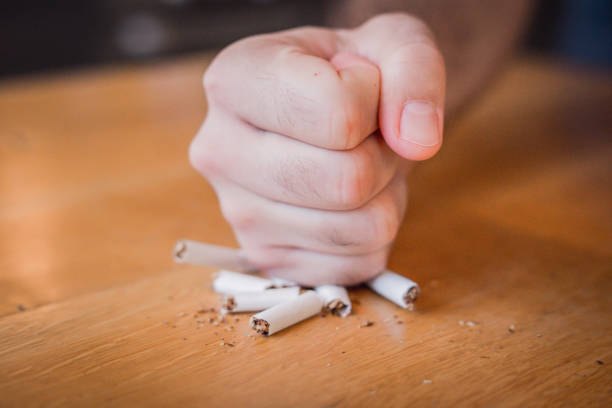cigarette: (247, 290, 324, 337), (171, 240, 255, 274), (220, 287, 309, 315), (366, 268, 422, 310), (211, 269, 276, 295), (314, 285, 352, 318)
